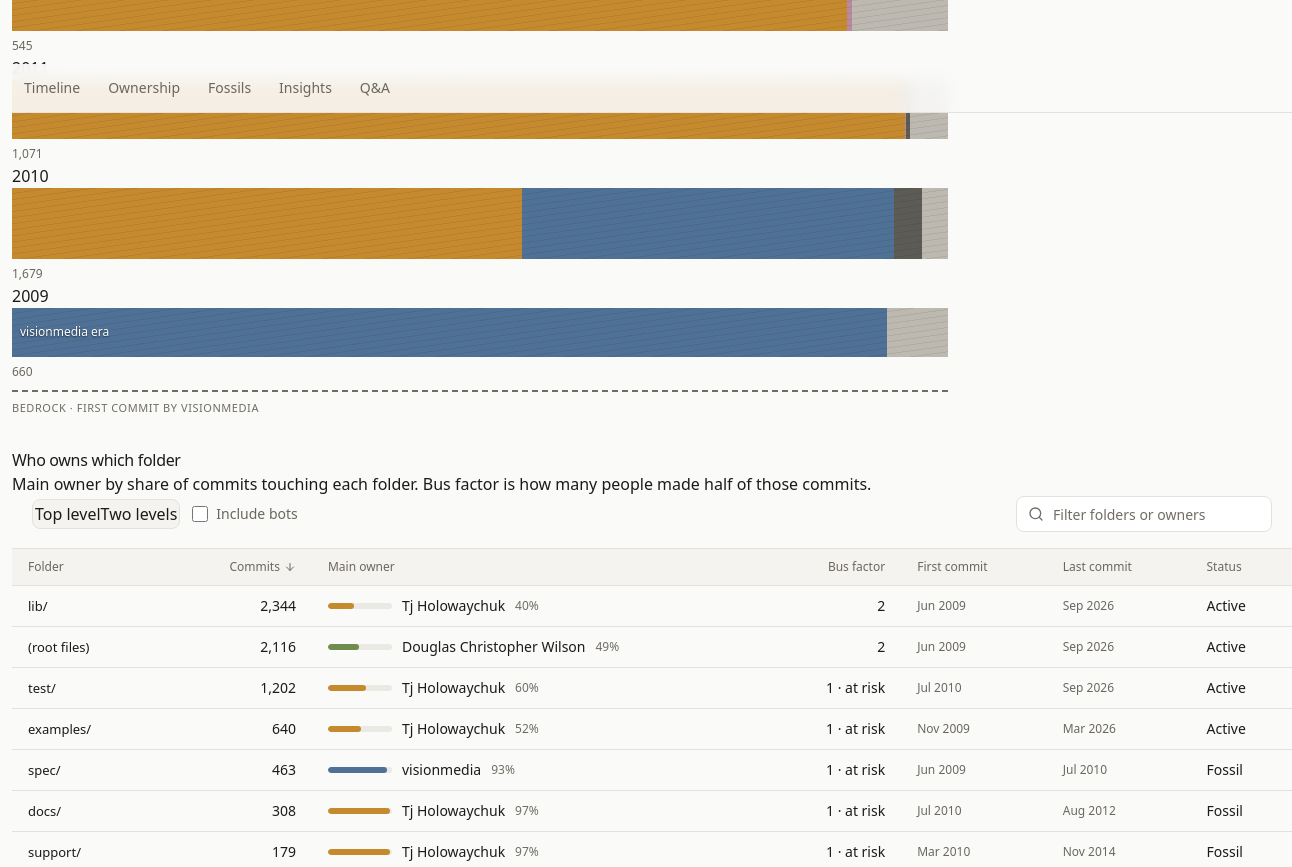
ReportView › filters, sorts and re-groups the ownership table
The width and height of the screenshot is (1292, 867).
(page scrolled)
Expected: the row "lib/ 2,344 Tj Holowaychuk 40% 2 Jun 2009 Sep 2026 Active" is shown, [12,586,1291,626]
Type "exam" into the search field labelled "Filter folders or owners" at coordinates (1144, 514), box [1016,496,1272,532]
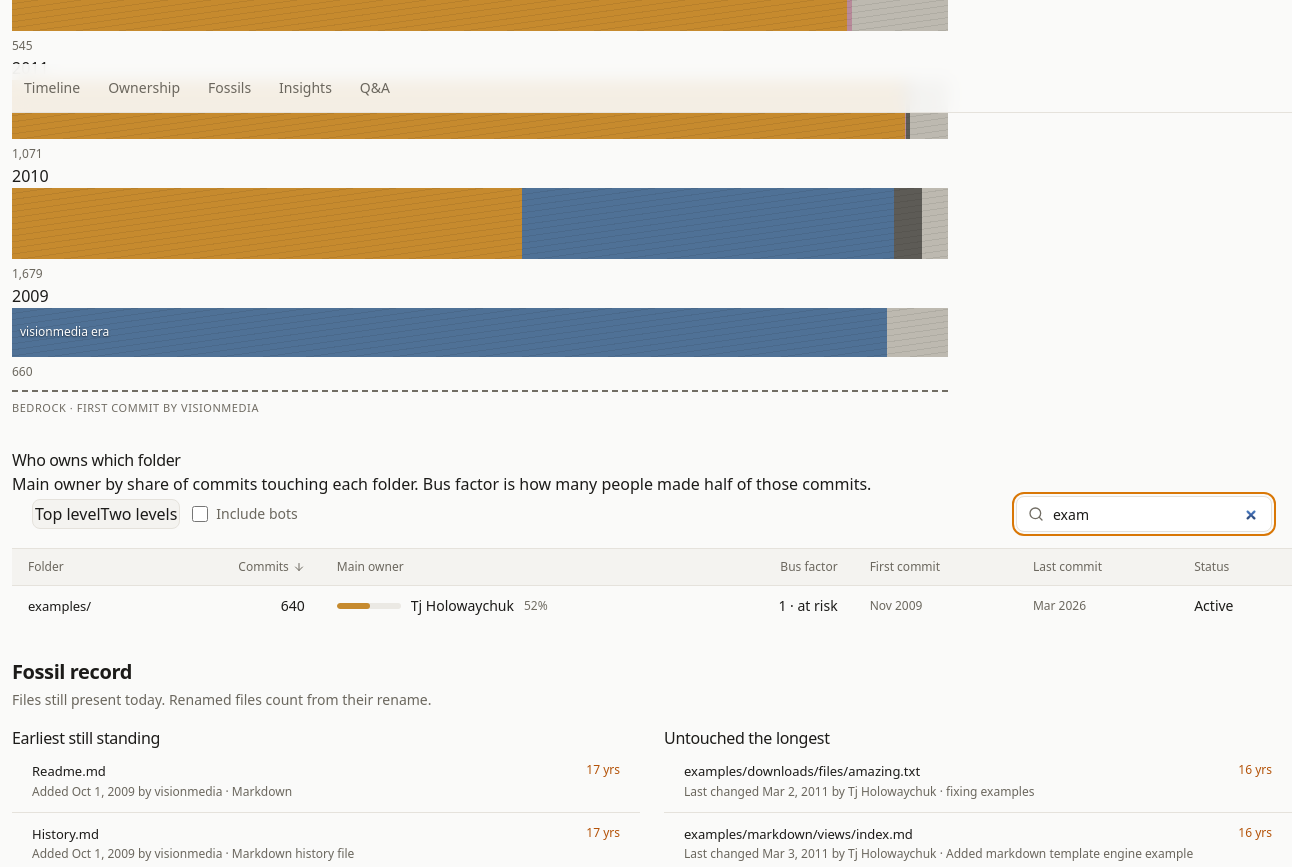
Expected: the row that starts with "examples/" is shown, [28,597,91,615]
Replace the text in the search field named "Filter folders or owners" with "zzz" at coordinates (1144, 514), box [1016,496,1272,532]
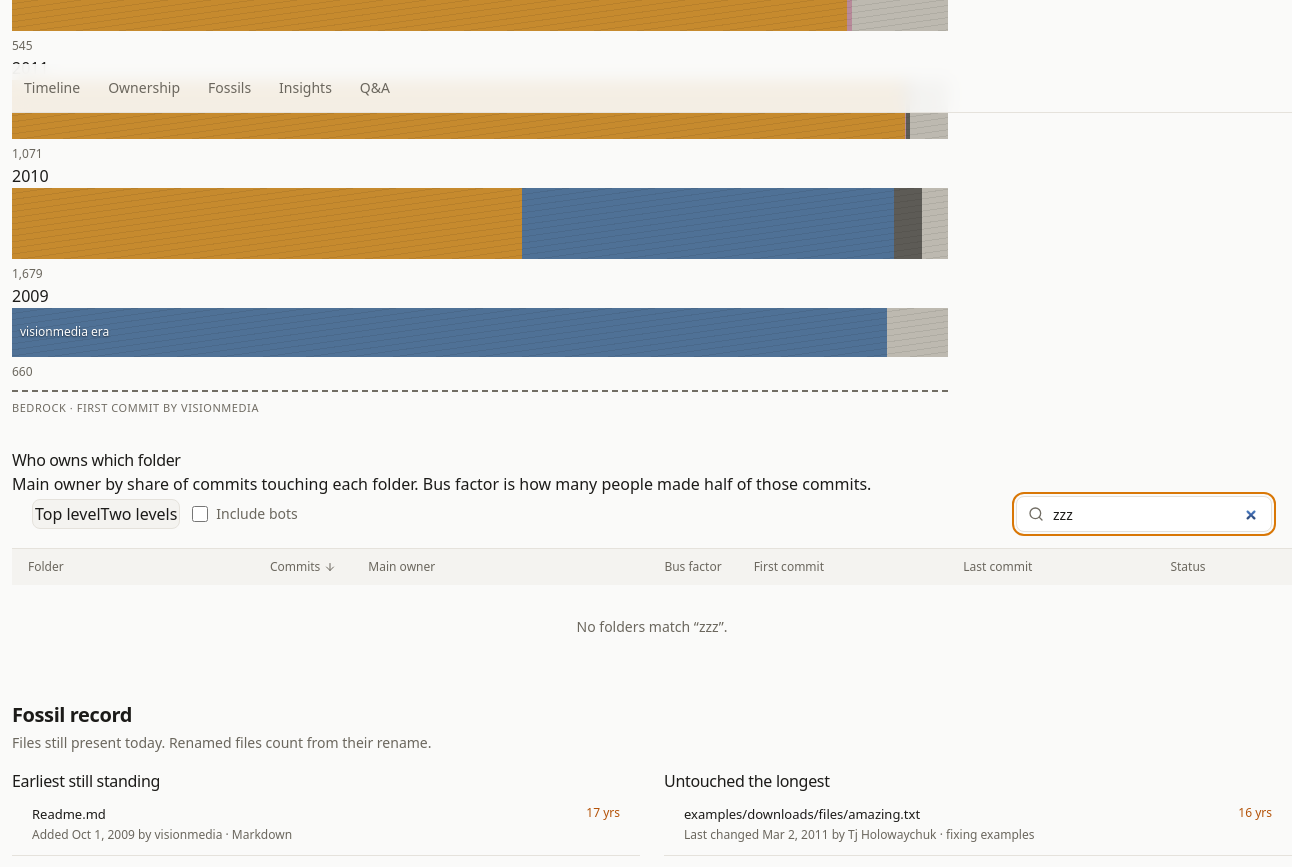
Expected: the text "No folders match “zzz”." is shown, [12,585,1291,669]
Clear the search field named "Filter folders or owners" at coordinates (1144, 514), box [1016,496,1272,532]
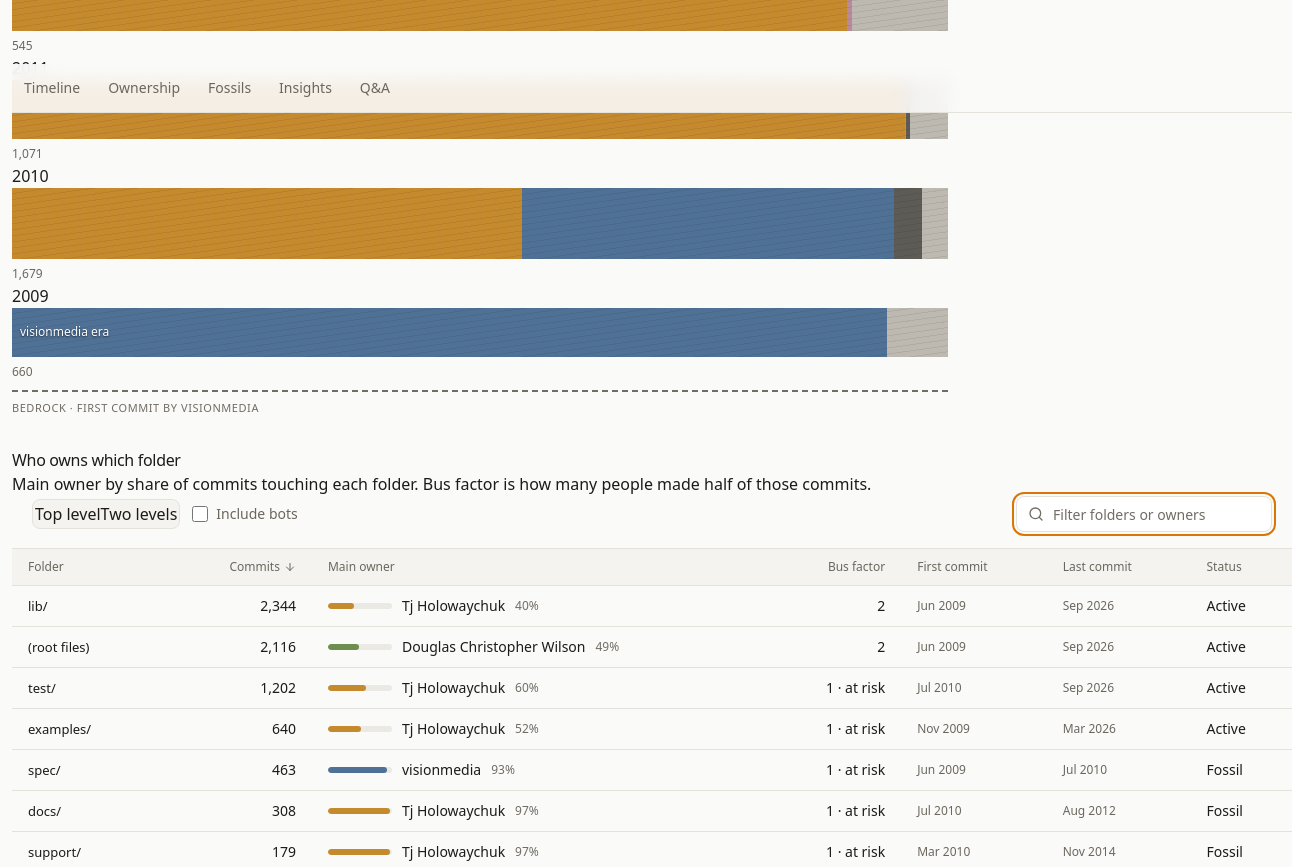
Click the button "Folder" at coordinates (46, 567), box [28,559,64,575]
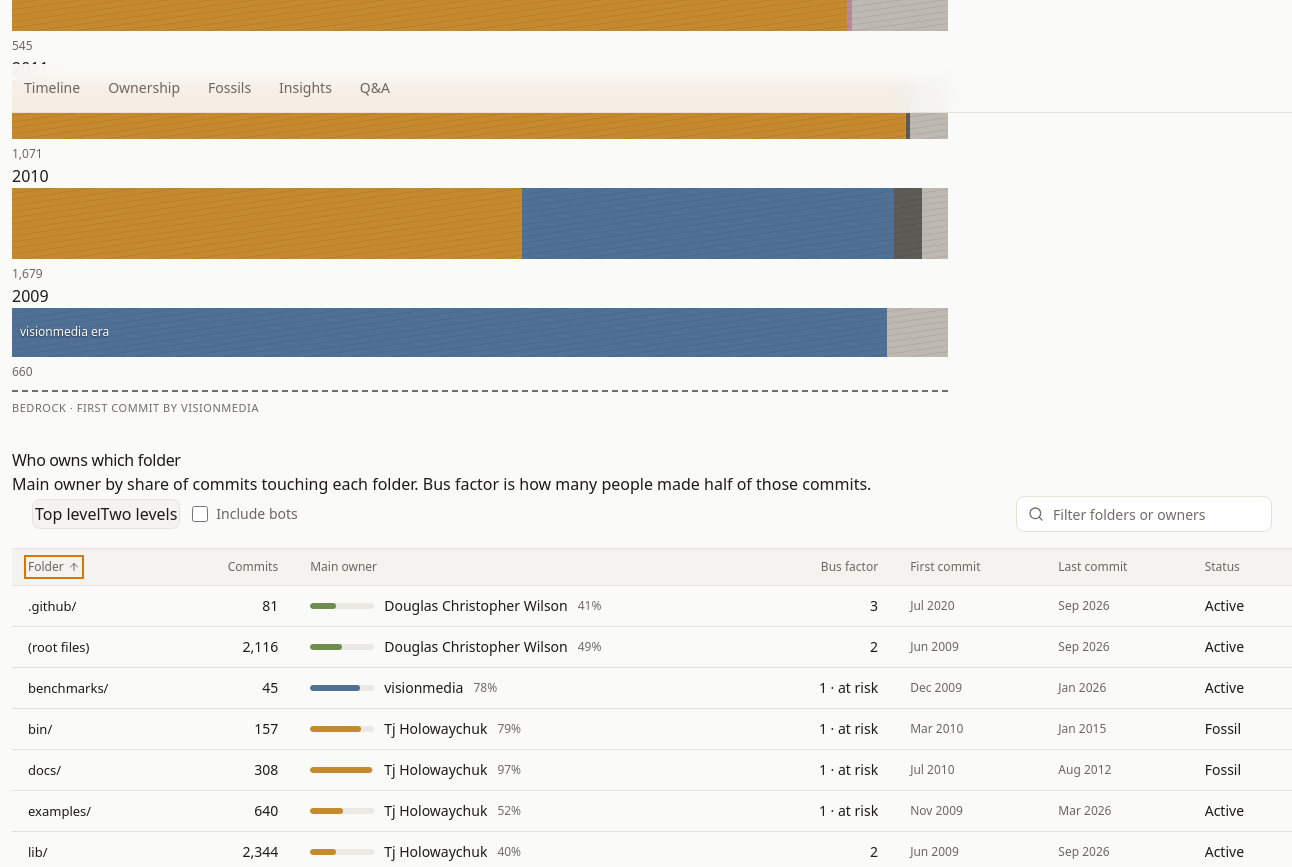
Expected: the column heading "Folder" has attribute aria-sort="ascending", [12,549,175,585]
Click the radio button labelled "Two levels" at coordinates (139, 514), box [101,502,177,526]
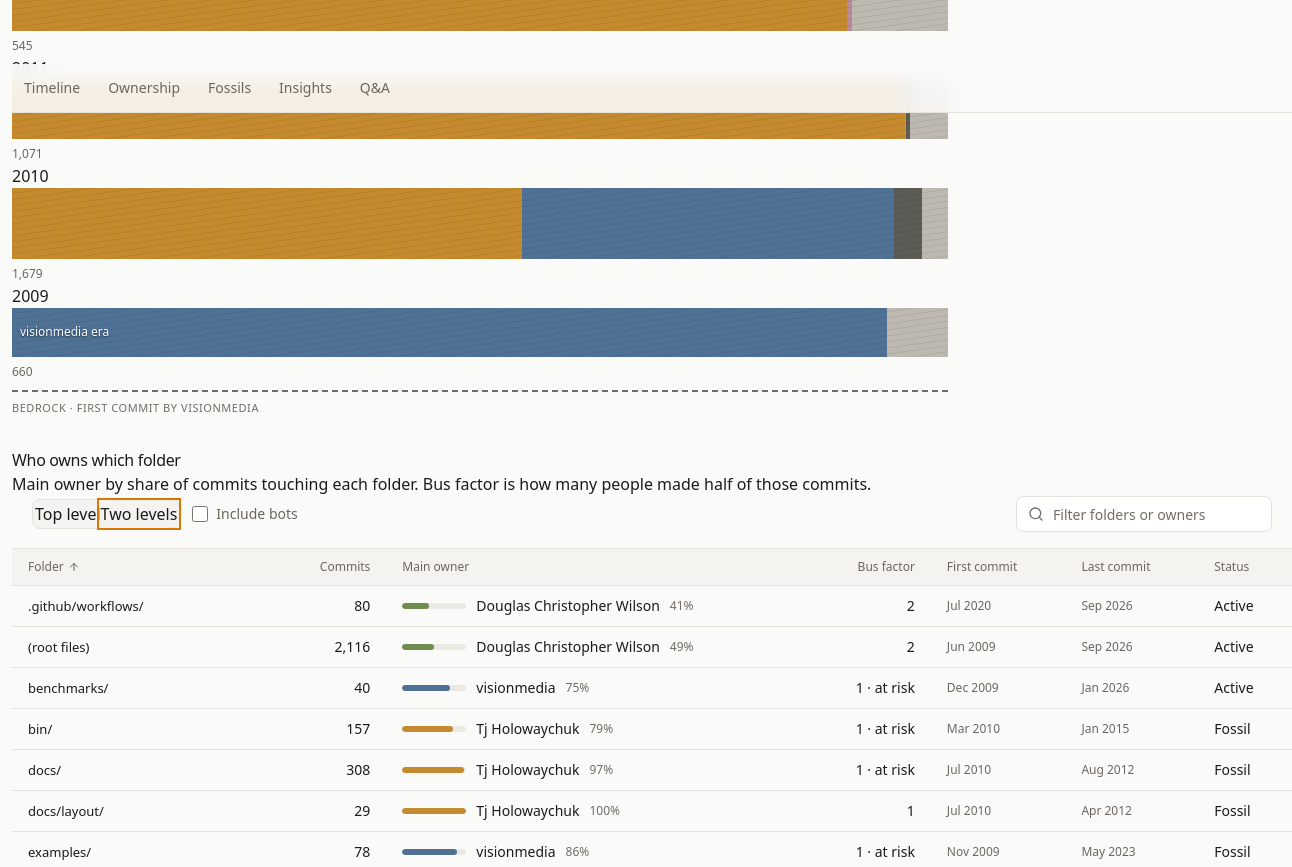
Expected: the text ".github/workflows/" is shown, [12,586,278,626]
